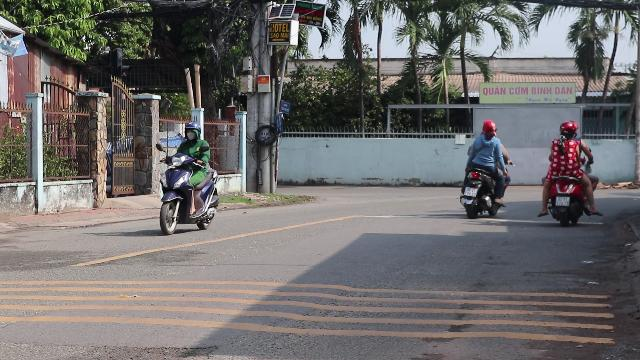helmet: (558, 120, 578, 138), (183, 121, 200, 141)
licenseplate: (556, 197, 570, 206)
motorcyclist: (155, 120, 221, 234), (538, 120, 598, 226)
